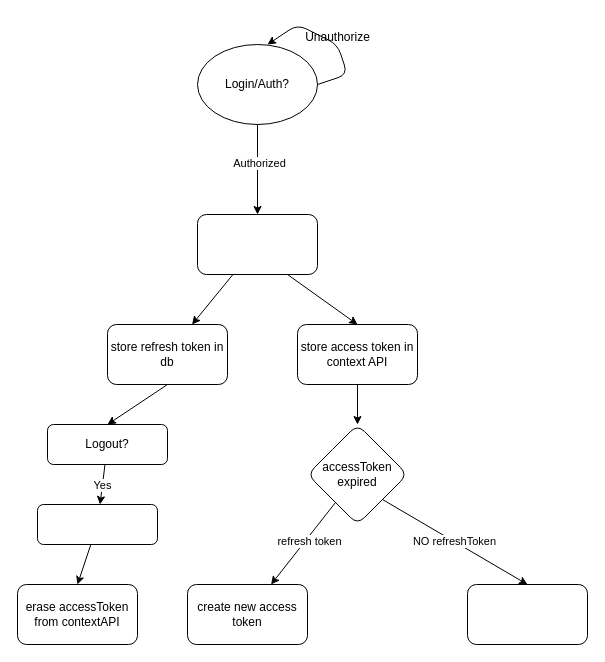
This 605x662 diagram has some shape labels left out. The shapes that lost their labels are listed below. From the top down, each one's centre as x and y in pixels, then its label:
point 257,244: create access & refresh token
point 97,524: Erase token in db
point 527,614: To login section
